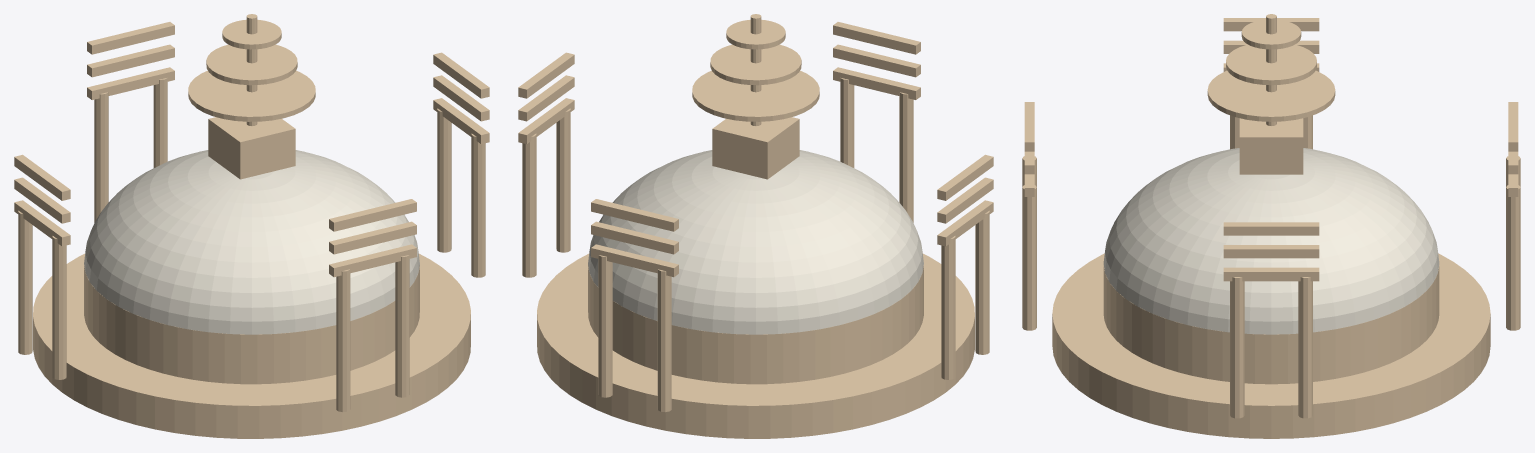
The model's file is stupa.glb.
The picture shows the model from 3 angles, left to right: view 1: azimuth 30°, elevation 25°; view 2: azimuth 150°, elevation 25°; view 3: azimuth 270°, elevation 25°; orthographic projection.
Visible parts, largest first — view 1: stupa; view 2: stupa; view 3: stupa.
Part boxes in pixels (box(x1,y1,x2,y2)): stupa: box(14, 14, 489, 438); stupa: box(518, 14, 993, 438); stupa: box(1022, 14, 1520, 438).
Size of the model in its own units: 13.66 by 10 by 13.68.
